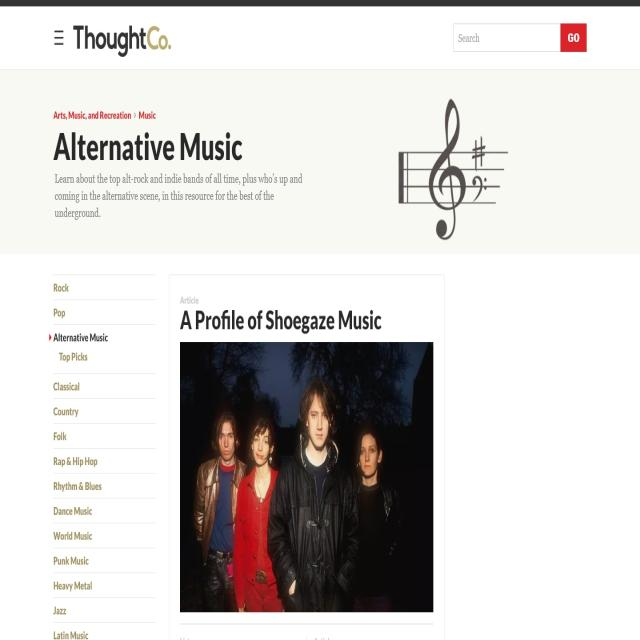button: (47, 326, 157, 371), (48, 570, 150, 598), (48, 371, 157, 397), (50, 473, 154, 500), (49, 521, 153, 547), (49, 546, 152, 572), (49, 272, 156, 297), (50, 422, 155, 446), (50, 599, 149, 624), (50, 299, 157, 322), (50, 398, 156, 421), (50, 448, 154, 470), (52, 501, 152, 521), (51, 623, 149, 640), (561, 22, 588, 52), (54, 25, 66, 51)
field: (454, 22, 560, 54)
heading: (51, 128, 245, 166), (180, 308, 384, 335), (73, 20, 174, 61)
image: (181, 340, 434, 612), (394, 83, 514, 247)
label: (455, 30, 483, 48)
text: (53, 172, 304, 222), (52, 109, 157, 121), (178, 294, 200, 307)
